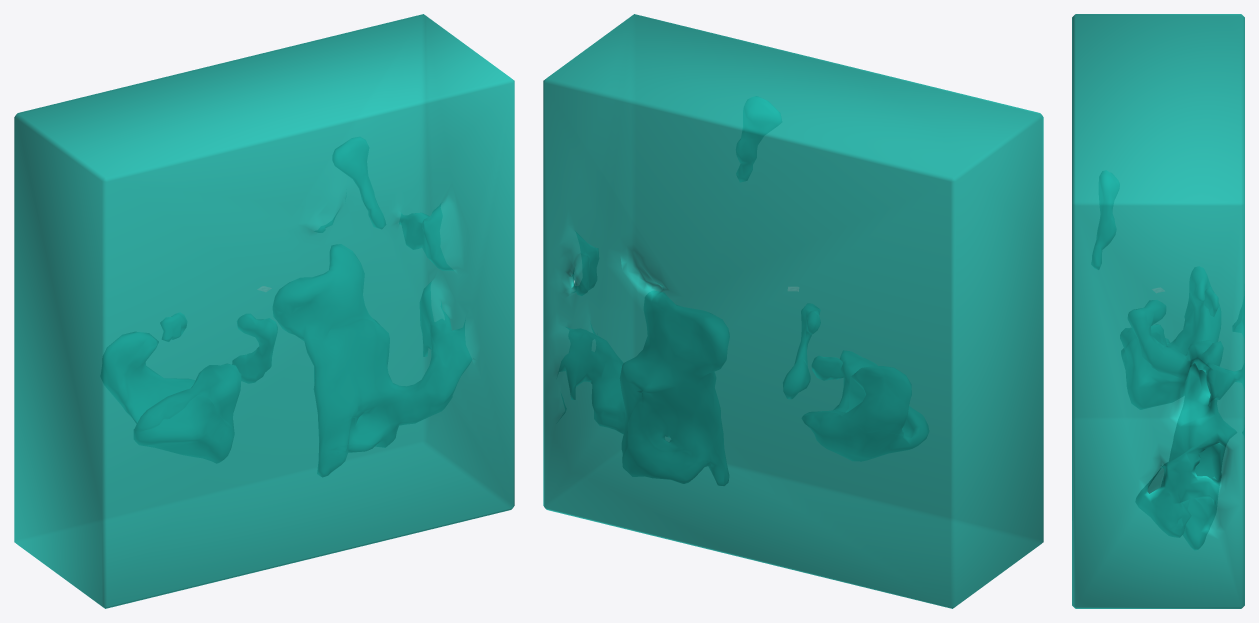
The picture shows the model from 3 angles, left to right: view 1: azimuth 30°, elevation 25°; view 2: azimuth 150°, elevation 25°; view 3: azimuth 270°, elevation 25°; orthographic projection. The views are drawn at different scales.
Visible parts, largest first — view 1: Liquid_Domain; view 2: Liquid_Domain; view 3: Liquid_Domain.
Part boxes in pixels (box(x1,y1,x2,y2)): Liquid_Domain: box(14, 14, 514, 608); Liquid_Domain: box(543, 14, 1043, 608); Liquid_Domain: box(1072, 14, 1244, 608).
Size of the model in its own units: 1948 by 1948 by 748.
